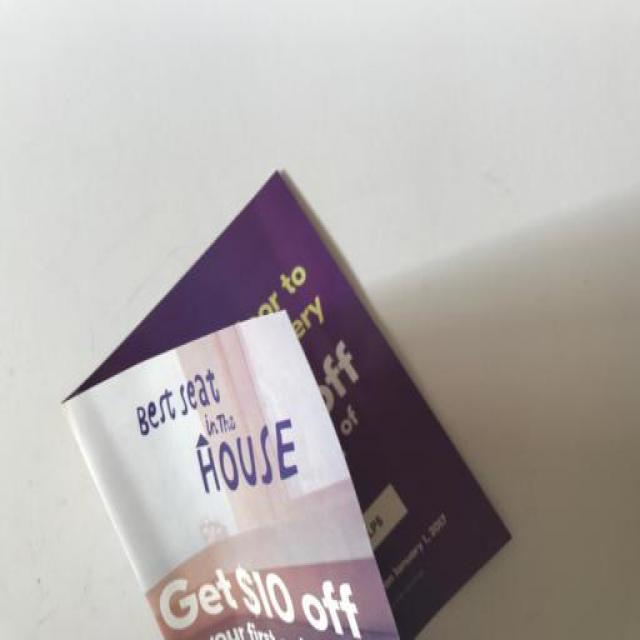paper: (50, 156, 513, 633)
